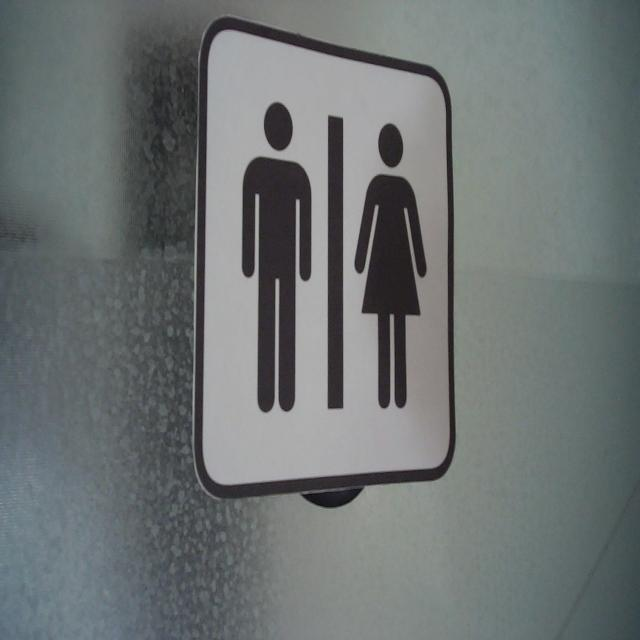restroom: (189, 10, 459, 505)
